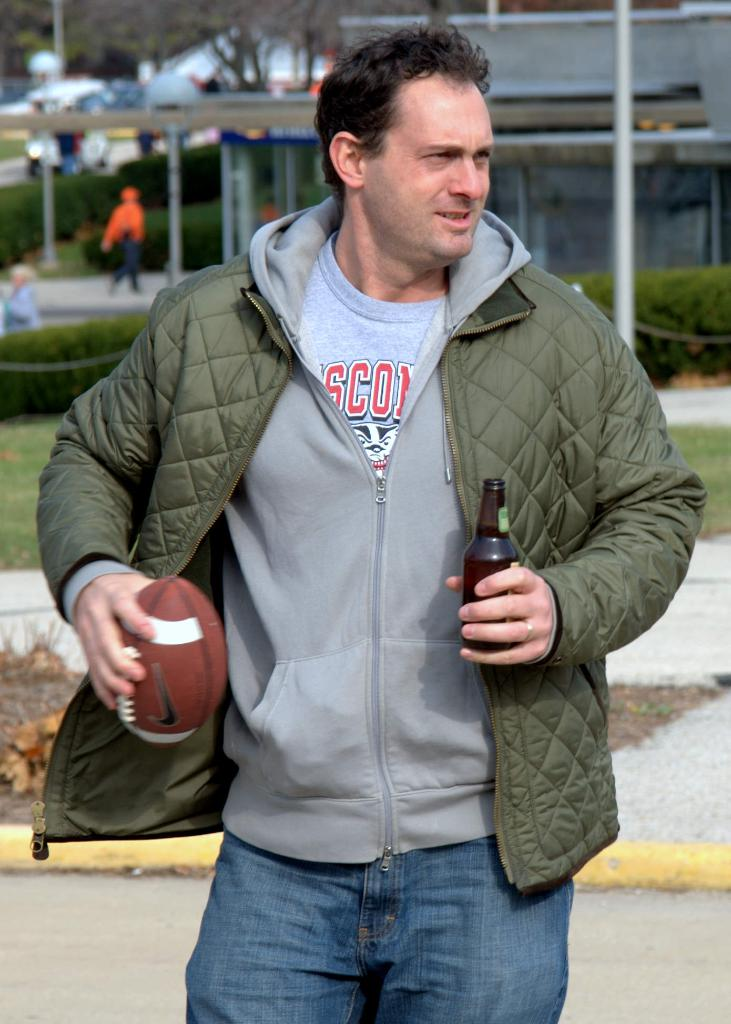Ball: (113, 575, 227, 748)
